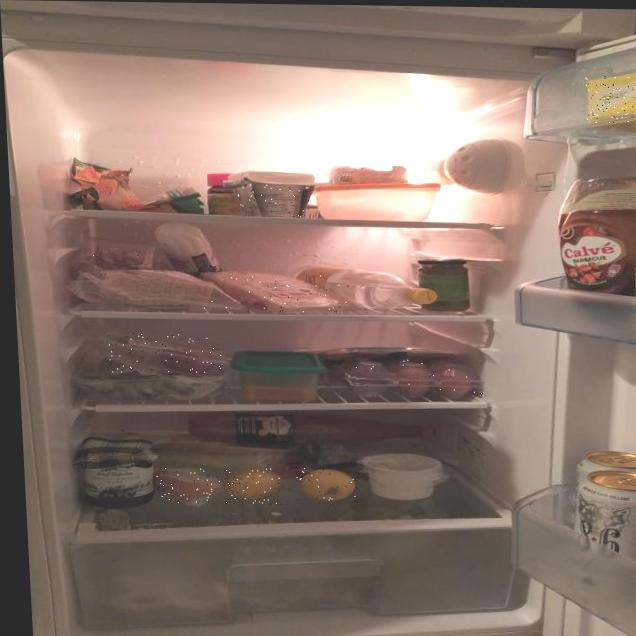bacon: (91, 232, 169, 271)
butter: (582, 76, 636, 122)
cheese: (202, 273, 352, 314), (156, 468, 223, 504)
eggs: (348, 358, 486, 404)
ham: (310, 346, 477, 358)
lemon: (223, 468, 285, 505), (296, 466, 361, 501)
tomatoes: (103, 332, 223, 376)
yoghurt: (237, 184, 312, 219)
